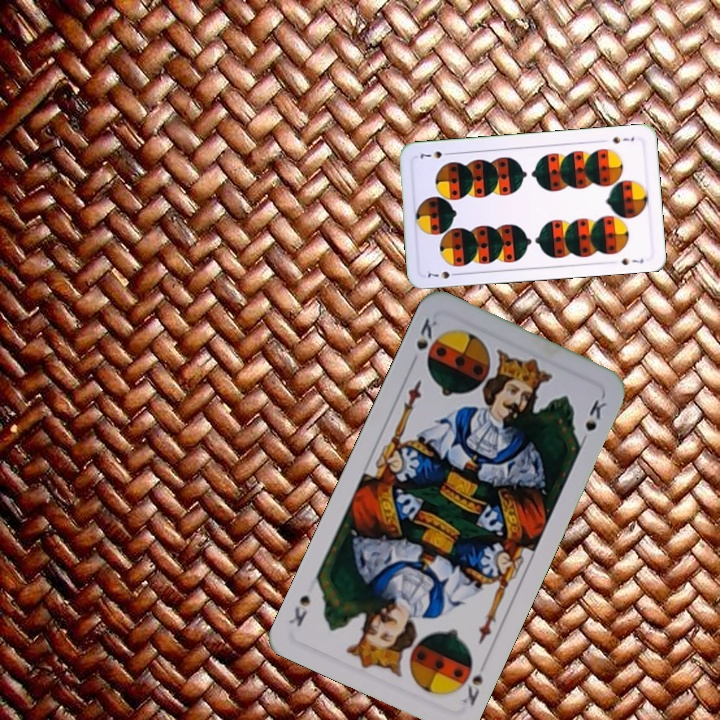S7: (421, 267, 462, 281), (608, 133, 637, 146)
SK: (453, 654, 486, 709), (412, 314, 440, 353)
